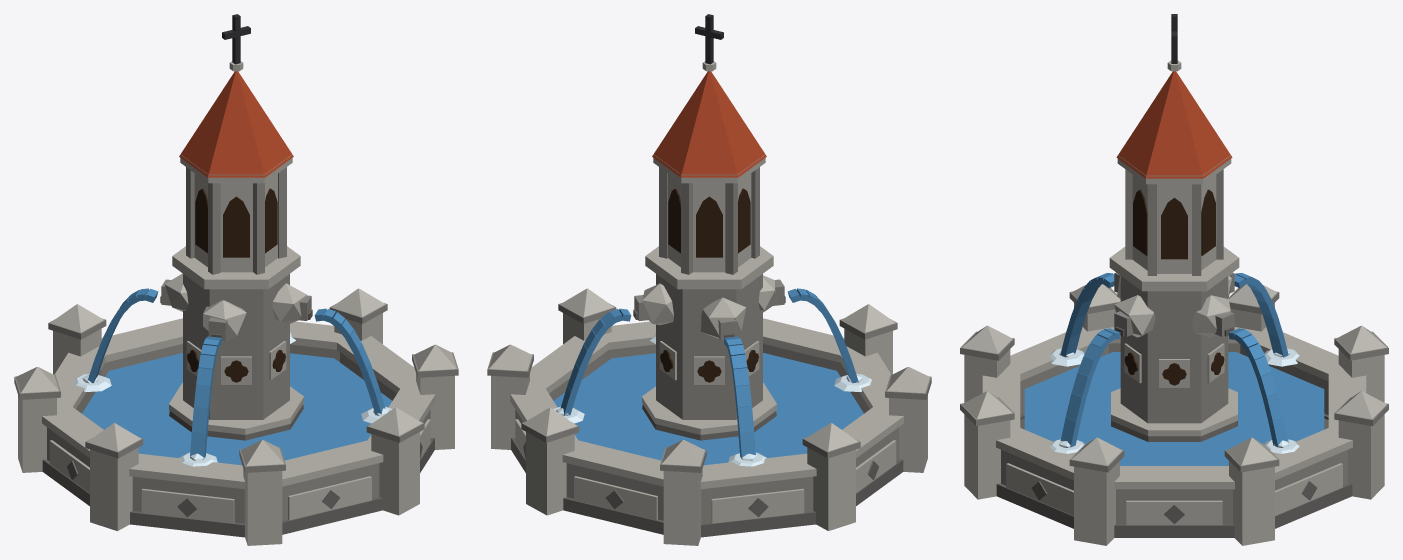
File: Landmark_Fountain.fbx
3 renders of one model, left to right at view 1: azimuth 30°, elevation 25°; view 2: azimuth 150°, elevation 25°; view 3: azimuth 270°, elevation 25°, orthographic.
Visible parts, largest first — view 1: Landmark_Fountain_LOD0; view 2: Landmark_Fountain_LOD0; view 3: Landmark_Fountain_LOD0.
Boxes of the visible parts, x1,y1,x2,y2 form: Landmark_Fountain_LOD0: [14, 14, 458, 545]; Landmark_Fountain_LOD0: [487, 14, 931, 545]; Landmark_Fountain_LOD0: [960, 14, 1388, 545].
Size of what is drawn, in the model's own units: 6.35 by 7.22 by 6.35.
